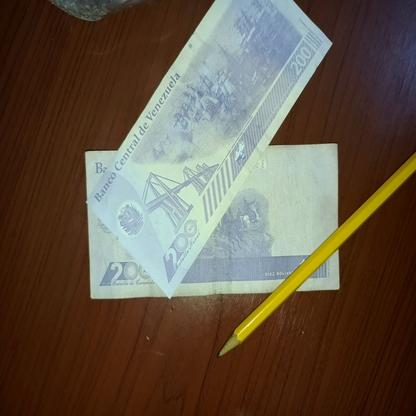ten-back-vef: (85, 142, 340, 300)
two_hundred-back-vef: (85, 0, 333, 299)
